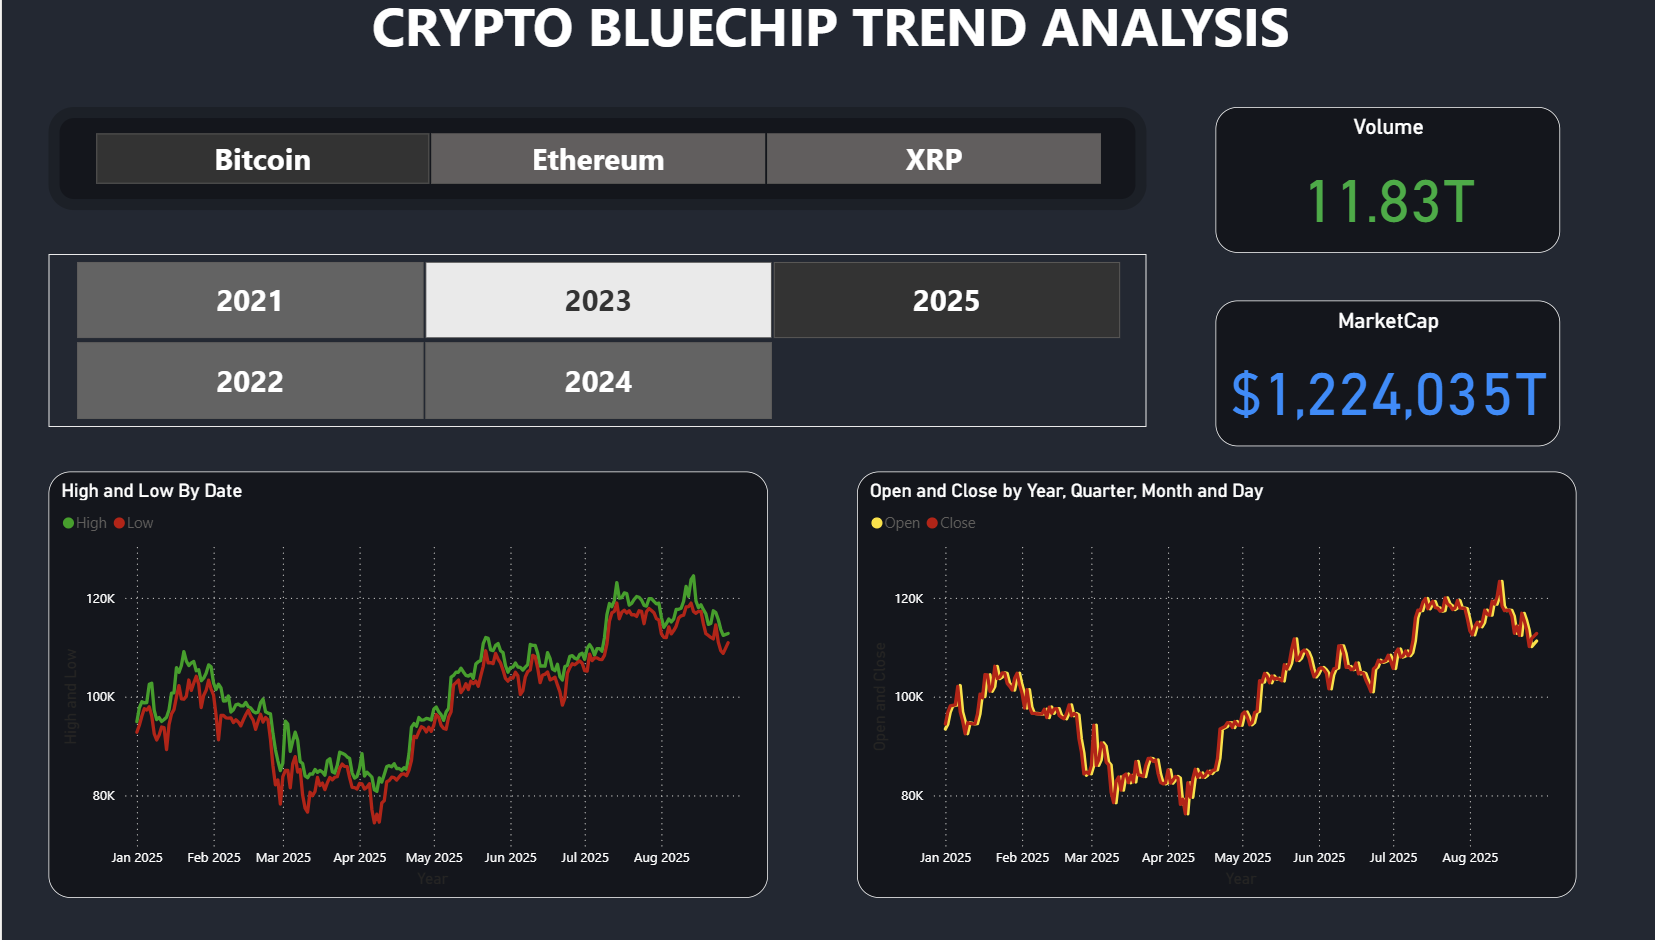

The dashboard page shown, as its layout file describes it:
{"tool":"powerbi","page":{"name":"Page 2","canvas":[1500,900],"ordinal":1},"visuals":[{"type":"slicer","fields":{"Values":["crypto_data_2021_2025.Name"]},"box":[41.8,141.5,993.8,93.3],"z":0},{"type":"slicer","fields":{"Values":["crypto_data_2021_2025.Year"]},"box":[42,274,994,156],"z":1000},{"type":"lineChart","title":"High and Low By Date","fields":{"Category":["crypto_data_2021_2025.Date.Variation.Date Hierarchy.Year","crypto_data_2021_2025.Date.Variation.Date Hierarchy.Quarter","crypto_data_2021_2025.Date.Variation.Date Hierarchy.Month","crypto_data_2021_2025.Date.Variation.Date Hierarchy.Day"],"Y":["Sum(crypto_data_2021_2025.High_Fixed)","Sum(crypto_data_2021_2025.Low_Fixed)"]},"box":[41.8,471.2,651.3,385.9],"z":2000},{"type":"textbox","box":[330,28.6,974.3,64.3],"z":4000},{"type":"card","title":"MarketCap","fields":{"Values":["Sum(crypto_data_2021_2025.Marketcap)"]},"box":[1098.3,316.8,312,131.9],"z":5000},{"type":"card","title":"Volume","fields":{"Values":["Sum(crypto_data_2021_2025.Volume_Fixed)"]},"box":[1098.3,141.5,312,131.9],"z":6000},{"type":"lineChart","fields":{"Category":["crypto_data_2021_2025.Date.Variation.Date Hierarchy.Year","crypto_data_2021_2025.Date.Variation.Date Hierarchy.Quarter","crypto_data_2021_2025.Date.Variation.Date Hierarchy.Month","crypto_data_2021_2025.Date.Variation.Date Hierarchy.Day"],"Y":["Sum(crypto_data_2021_2025.Open_Fixed)","Sum(crypto_data_2021_2025.Close_Fixed)"]},"box":[773.5,471.2,651.3,385.9],"z":7000}]}

Visuals, with their boxes on the page's 1500x900 design canvas (x1, y1, x2, y2). These are canvas units, not pixel positions in the 1655x940 screenshot, which may show the page scaled, cropped or inside an application window:
slicer - crypto_data_2021_2025.Name: 42/142/1036/235
slicer - crypto_data_2021_2025.Year: 42/274/1036/430
"High and Low By Date" lineChart: 42/471/693/857
textbox: 330/29/1304/93
"MarketCap" card: 1098/317/1410/449
"Volume" card: 1098/142/1410/273
lineChart - crypto_data_2021_2025.Date.Variation.Date Hierarchy.Year x crypto_data_2021_2025.Date.Variation.Date Hierarchy.Quarter: 774/471/1425/857
